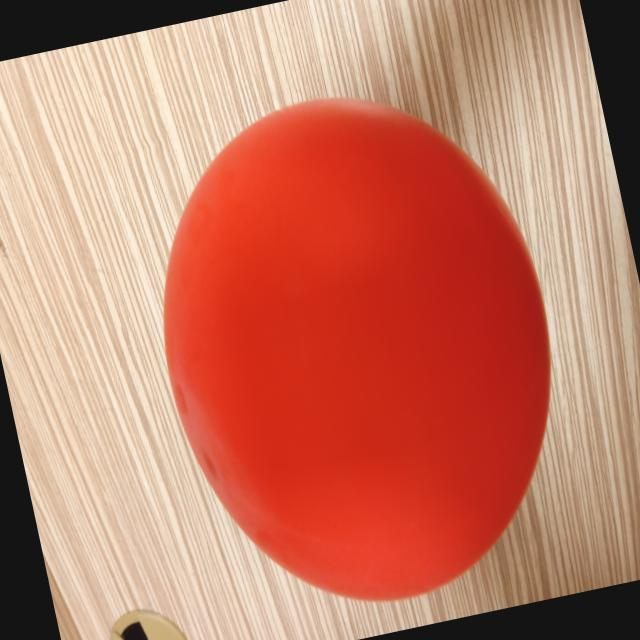balloon: (163, 98, 550, 600)
